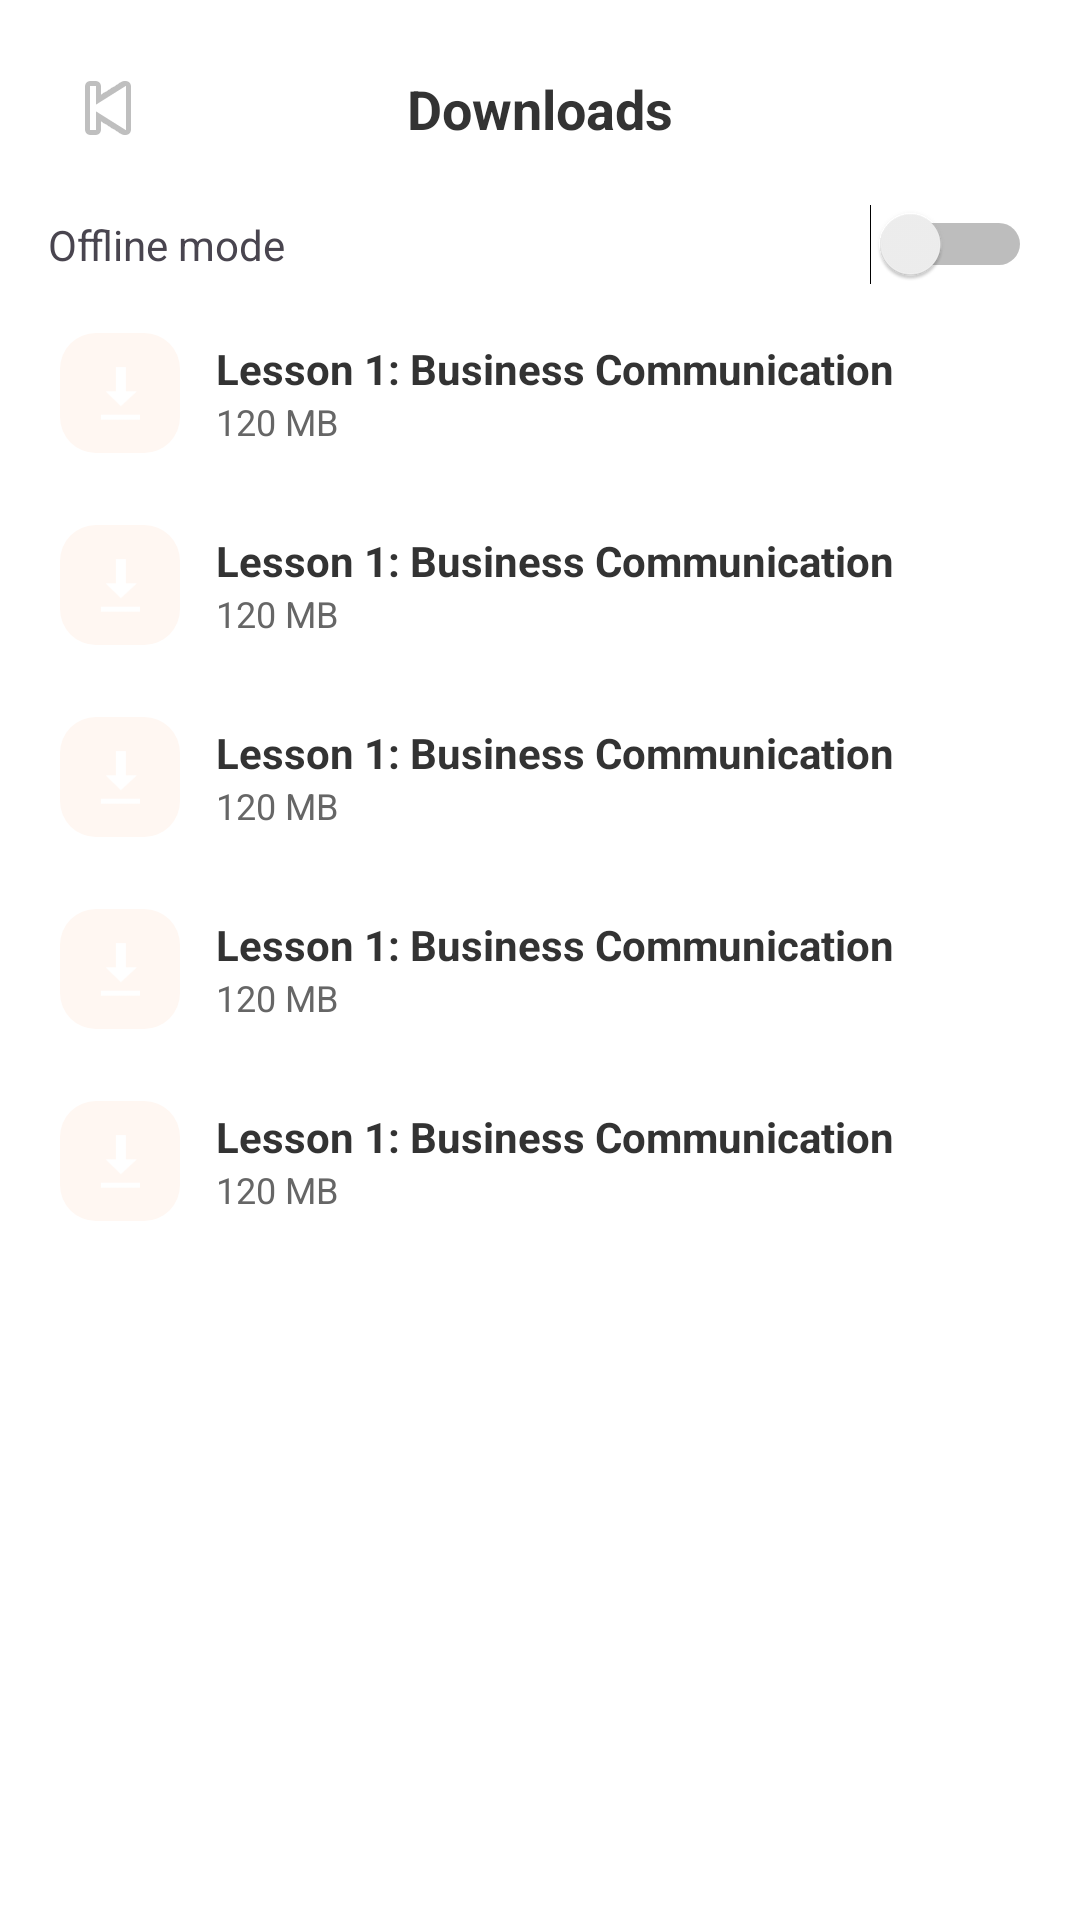

Icon click points for this 1080×1920 phone screenshot, format (x,y):
Back: (108,108)
